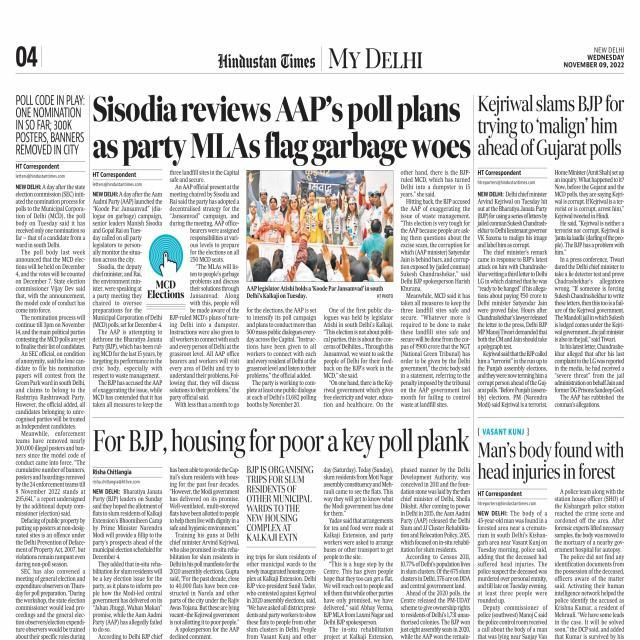Article: (90, 89, 472, 414), (90, 423, 473, 640), (476, 90, 628, 412), (10, 87, 89, 640), (475, 424, 629, 640)
Body: (13, 182, 88, 640), (168, 166, 242, 411), (399, 167, 472, 410), (554, 166, 626, 409), (476, 186, 550, 412), (91, 188, 164, 410), (322, 462, 395, 640), (399, 462, 472, 640), (168, 465, 240, 640), (552, 488, 626, 640), (91, 485, 163, 640), (476, 506, 548, 640), (246, 306, 320, 412), (324, 304, 394, 410), (245, 550, 318, 640)
Date: (562, 53, 626, 70)
Heading: (92, 92, 470, 166), (95, 426, 471, 462), (478, 92, 628, 162), (478, 441, 626, 486), (14, 93, 87, 157)
Highlights: (246, 464, 316, 542)
Image: (248, 172, 393, 282)
Name: (326, 44, 424, 72), (216, 50, 318, 70)
